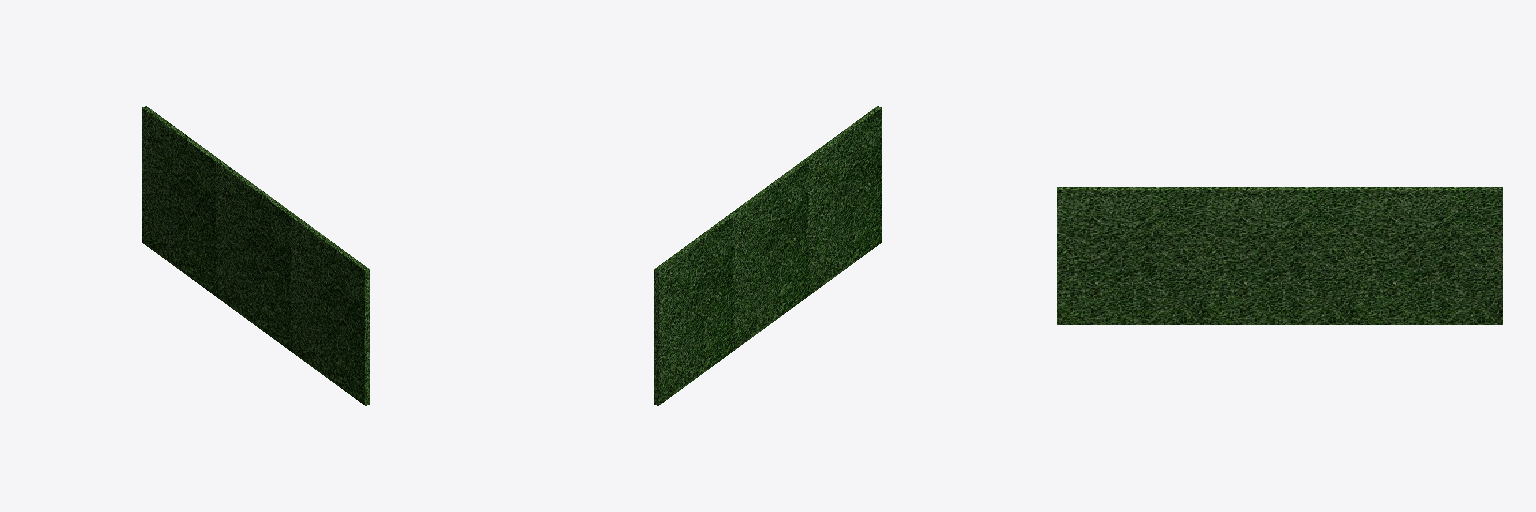
3 renders of one model, left to right at view 1: azimuth 30°, elevation 25°; view 2: azimuth 150°, elevation 25°; view 3: azimuth 270°, elevation 25°, orthographic.
Parts seen in each view (by area): view 1: PC136_Cube.139, PC134_Cube.137, PC135_Cube.138; view 2: PC135_Cube.138, PC134_Cube.137, PC136_Cube.139; view 3: PC135_Cube.138, PC136_Cube.139, PC134_Cube.137.
Part boxes in pixels (x1,y1,x2,y2): PC136_Cube.139: (291,215,369,405); PC134_Cube.137: (216,161,294,350); PC135_Cube.138: (142,106,220,295); PC135_Cube.138: (654,215,732,405); PC134_Cube.137: (729,161,807,350); PC136_Cube.139: (803,106,881,295); PC135_Cube.138: (1354,187,1502,324); PC136_Cube.139: (1057,187,1205,324); PC134_Cube.137: (1206,187,1353,324).
Size of the model in its own units: 0.4 by 10 by 30.
Materials: 1 (1 with a texture image).